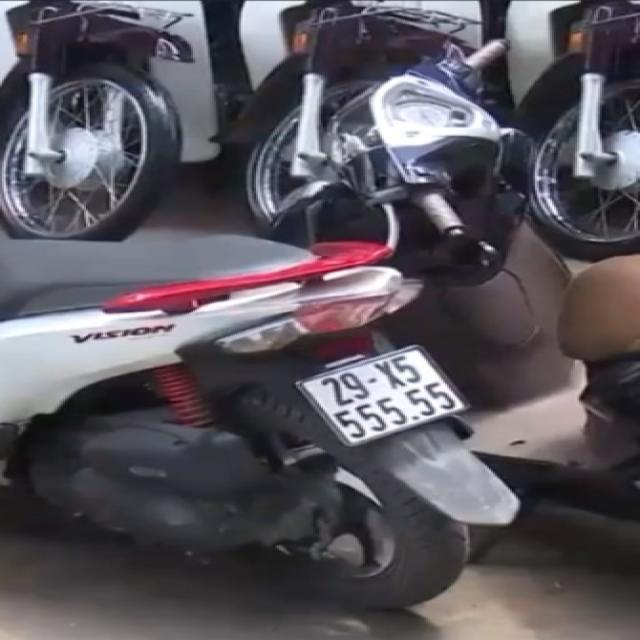2: (318, 379, 355, 406)
5: (333, 409, 372, 440), (390, 354, 427, 382), (424, 380, 459, 409), (355, 403, 388, 433), (403, 389, 438, 417), (375, 396, 408, 424)
9: (342, 371, 371, 398)
X: (372, 359, 408, 390)
